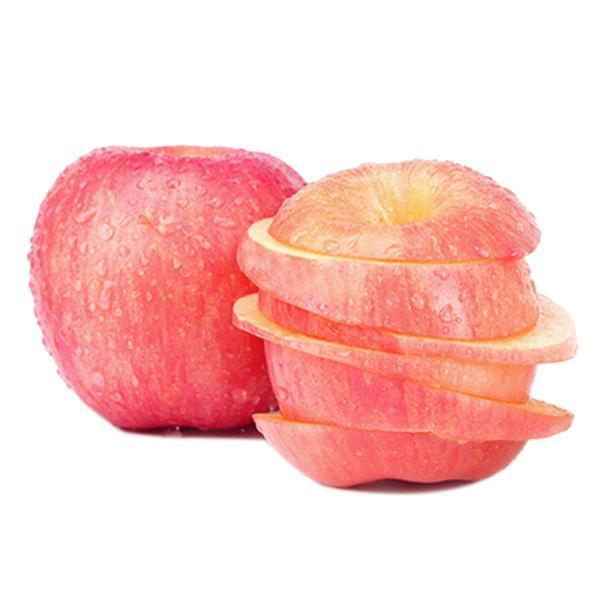apple: (24, 146, 304, 435)
